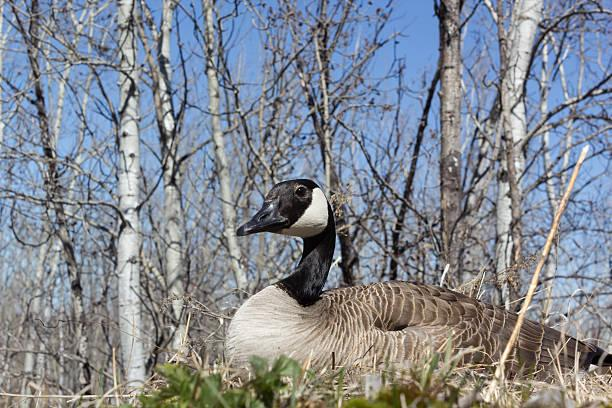Canadian-Goose: (224, 178, 612, 397)
